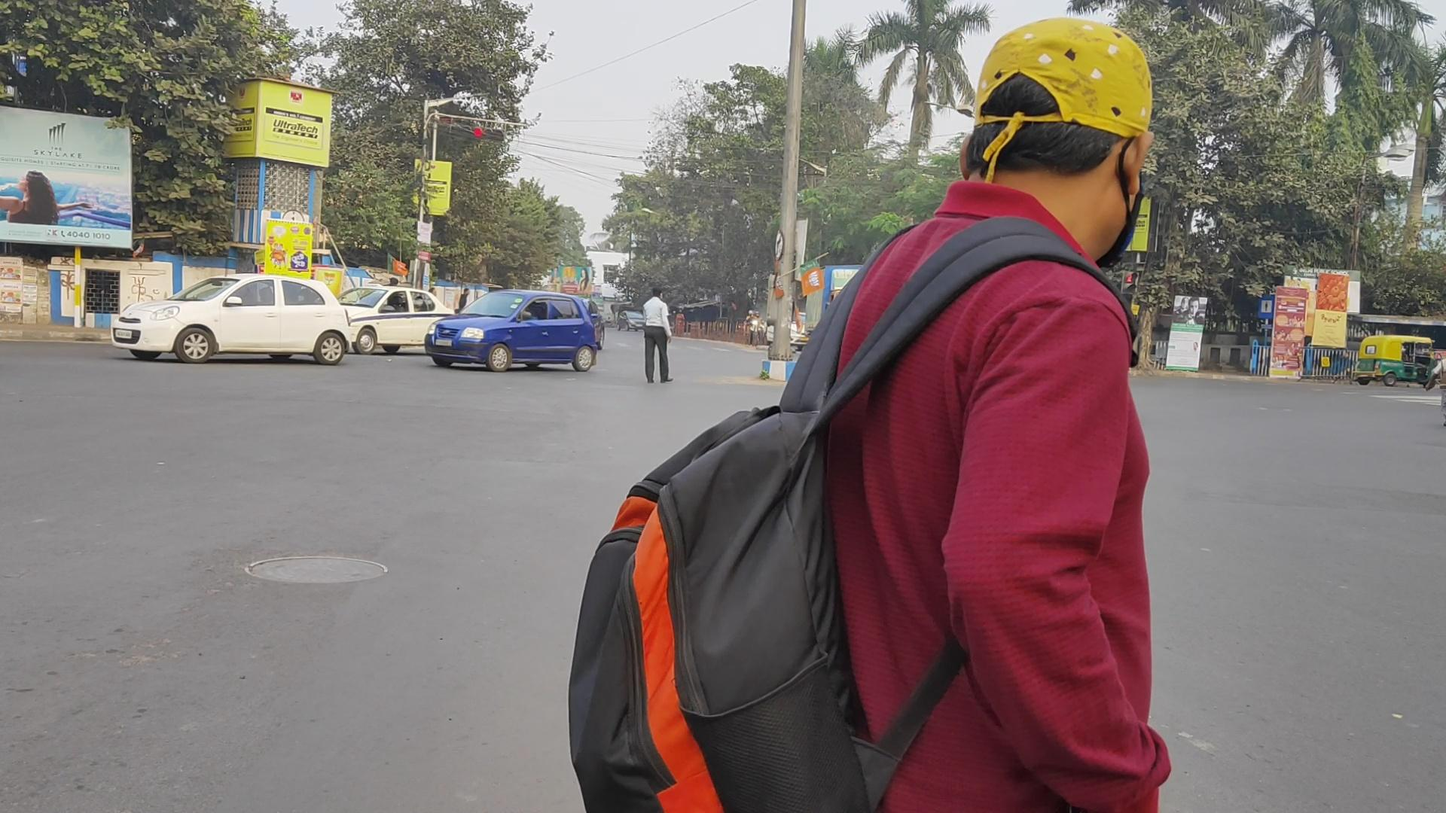Auto: (1353, 335, 1440, 389)
car: (111, 274, 351, 365), (425, 289, 597, 372), (319, 285, 456, 355), (617, 310, 648, 332)
